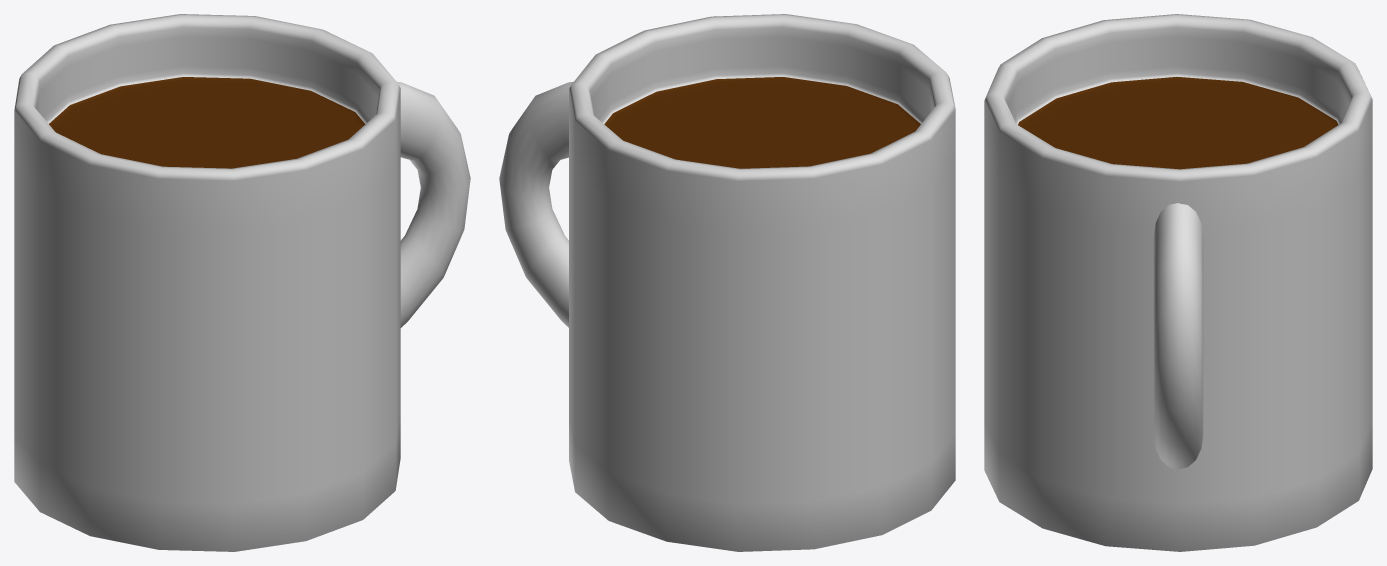
File: SpeedCoffee.fbx
The picture shows the model from 3 angles, left to right: view 1: azimuth 30°, elevation 25°; view 2: azimuth 150°, elevation 25°; view 3: azimuth 270°, elevation 25°; orthographic projection.
Visible parts, largest first — view 1: CoffeeMug; view 2: CoffeeMug; view 3: CoffeeMug.
Part boxes in pixels (bbox=[...]): CoffeeMug: bbox=[14, 14, 470, 551]; CoffeeMug: bbox=[499, 14, 955, 551]; CoffeeMug: bbox=[984, 14, 1372, 551].
Size of the model in its own units: 2.35 by 2 by 1.85.
